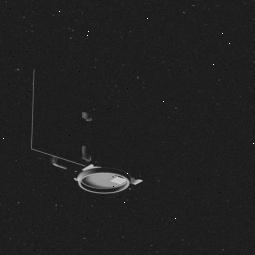proba_3_csc: (24, 63, 158, 200)
